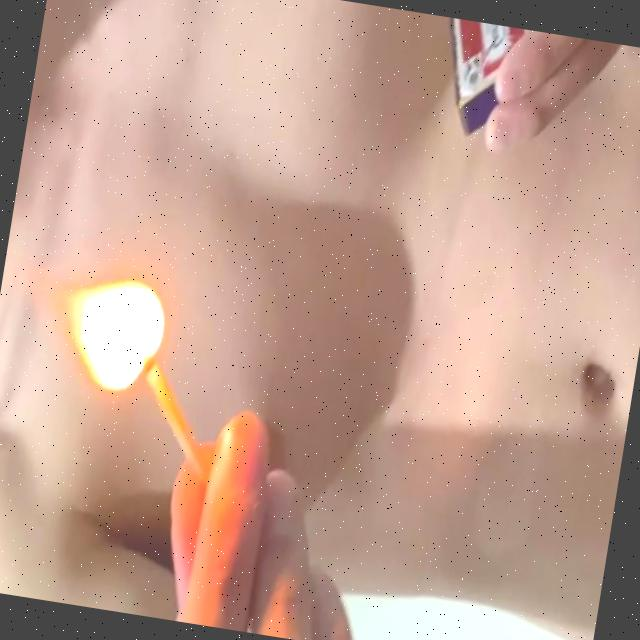fire: (4, 242, 180, 403)
